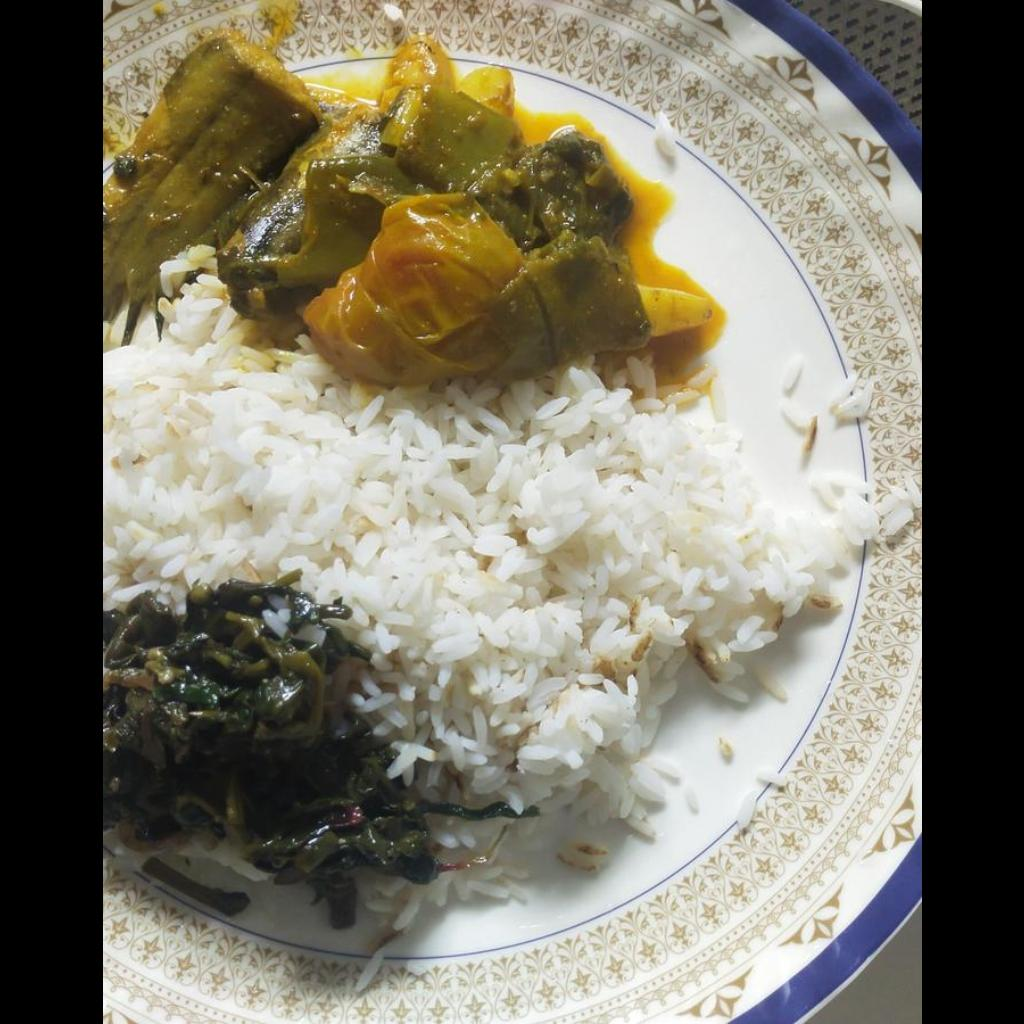fish: (102, 31, 707, 376)
rice: (104, 280, 826, 827)
shak: (102, 588, 433, 934)
